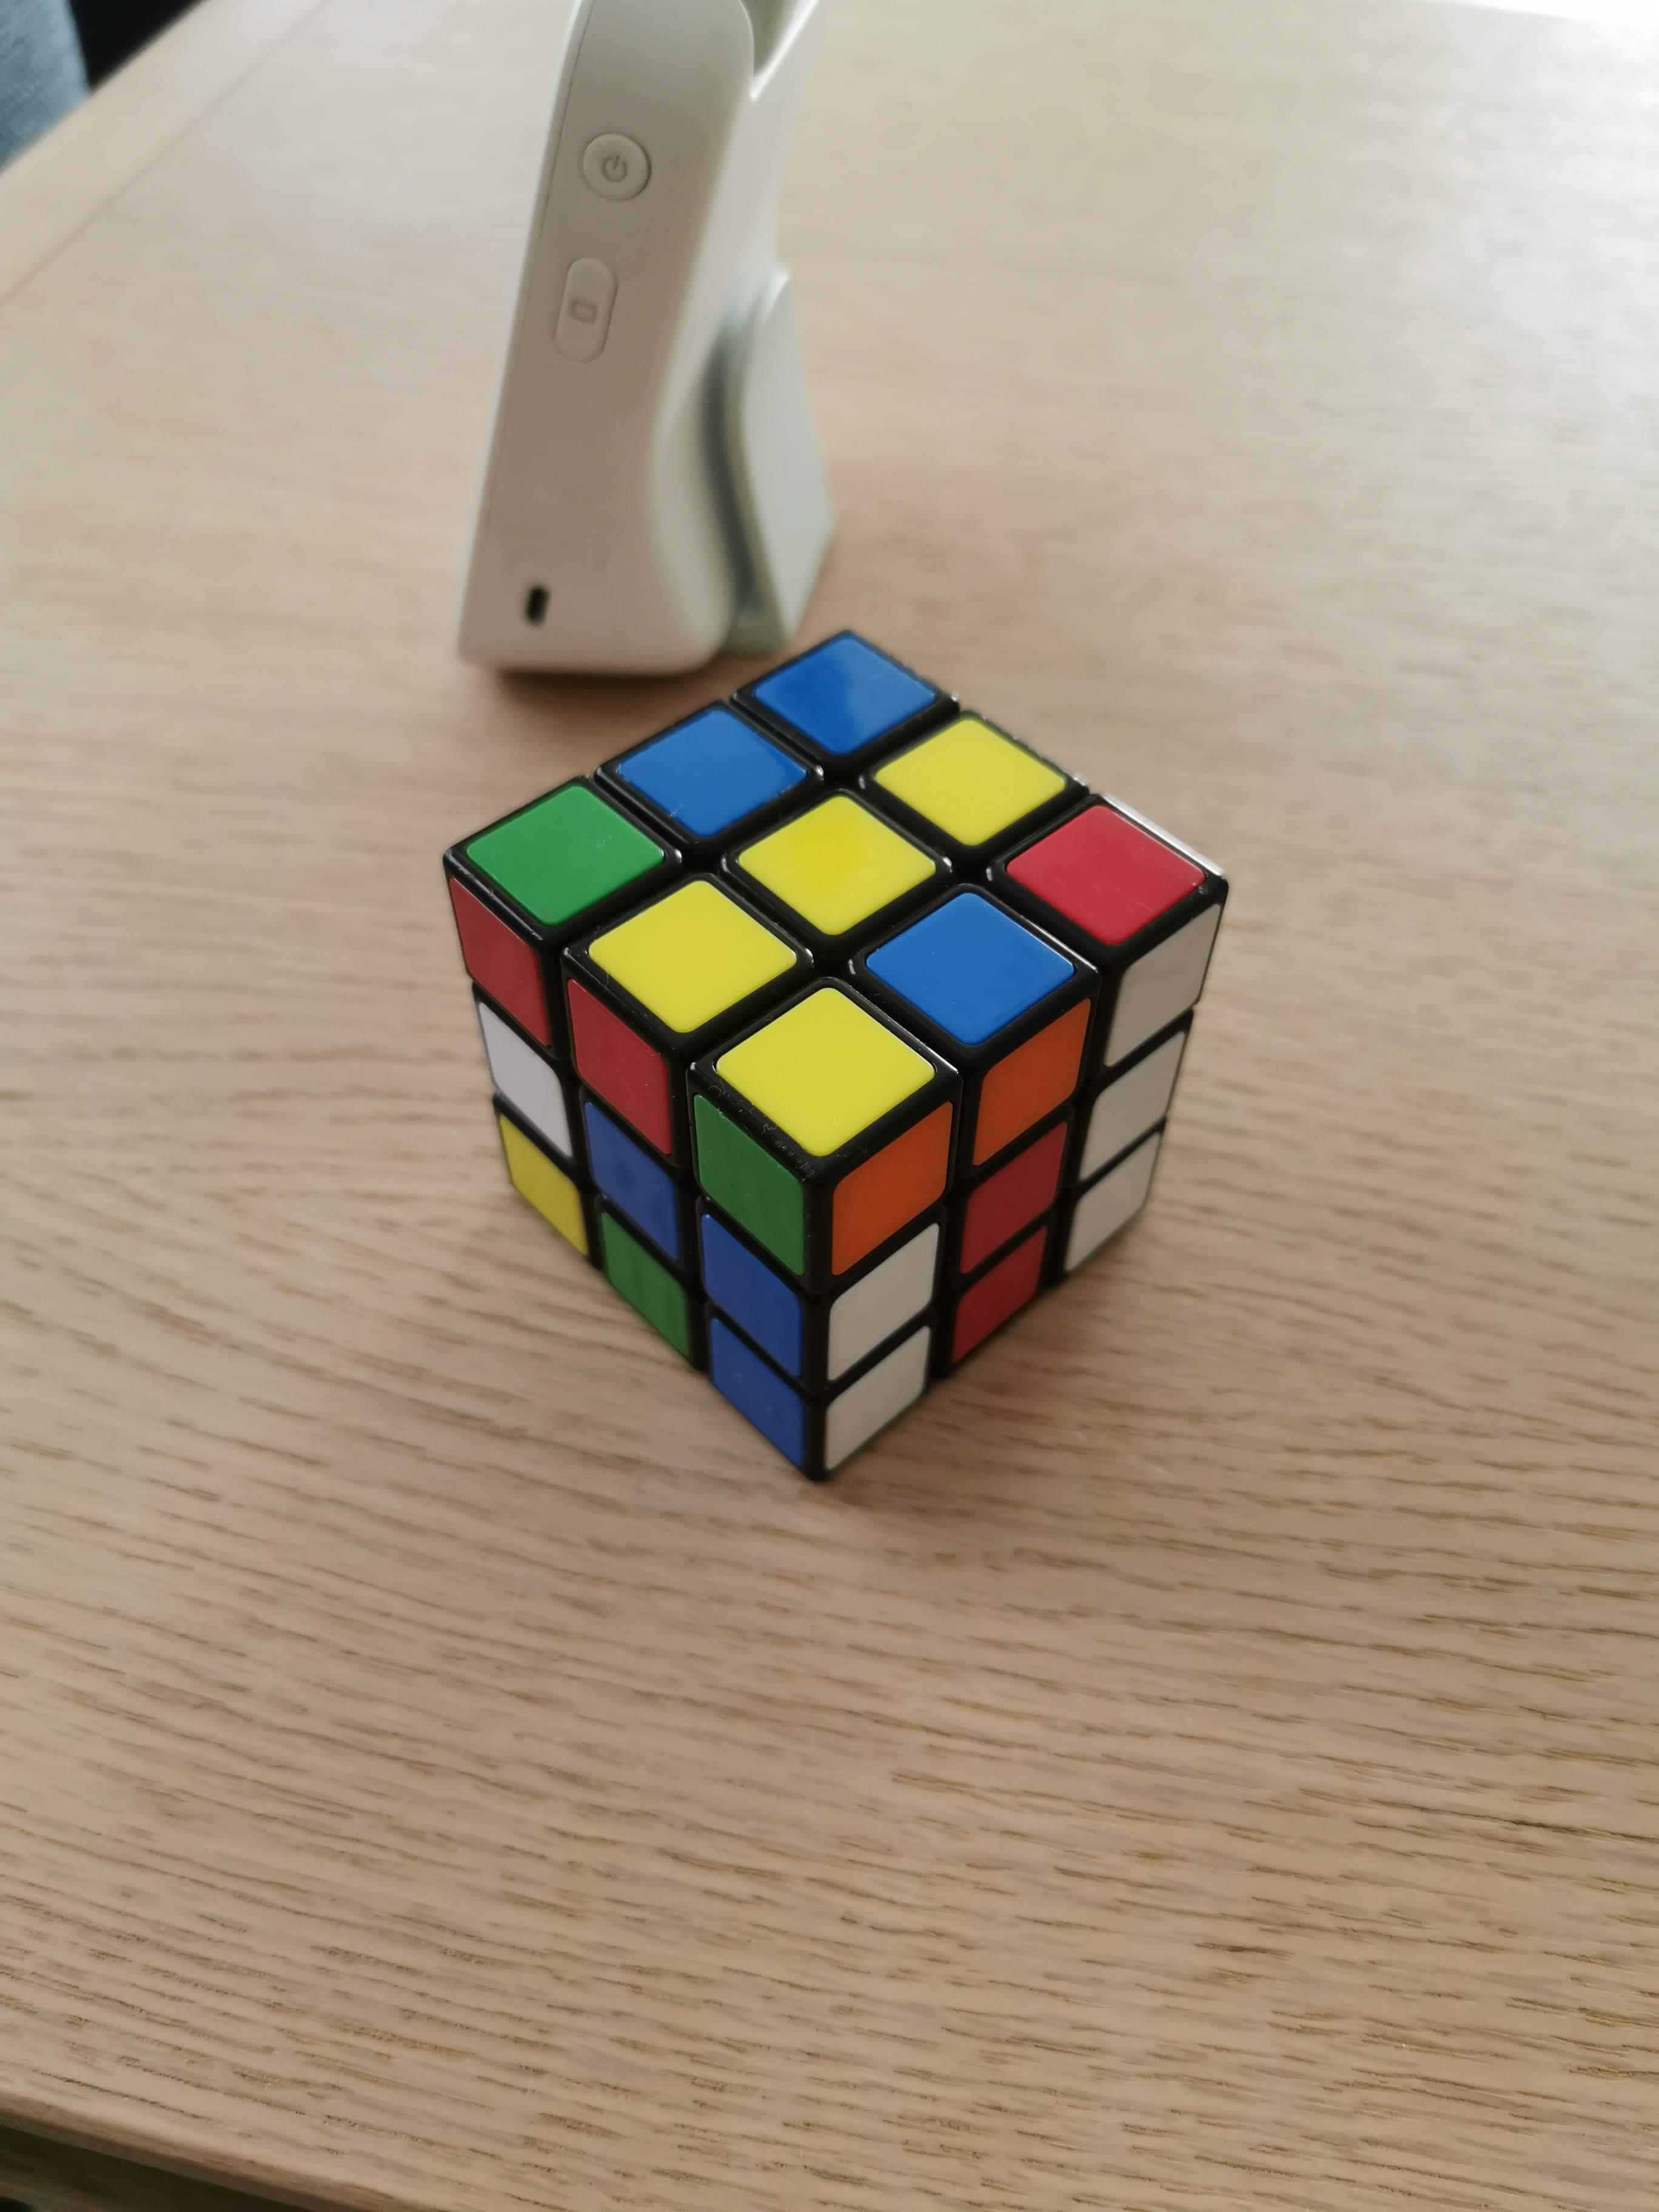cube: (439, 627, 1225, 1480)
